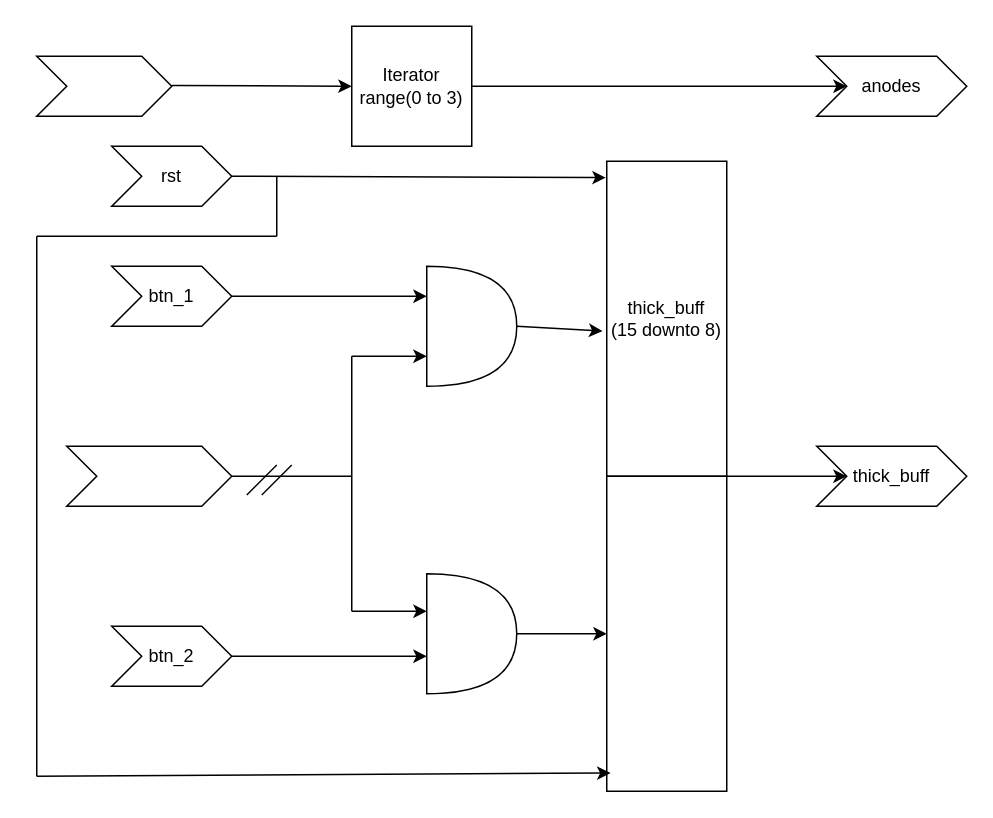
Some shapes in this 993 by 818 pixel diagram are drawn without their labels. Each missing label, with the centre of its shape:
CLK: point 103,85
inputs (7 downto 0): point 148,475
thick_buff (7 downto 0): point 666,633
